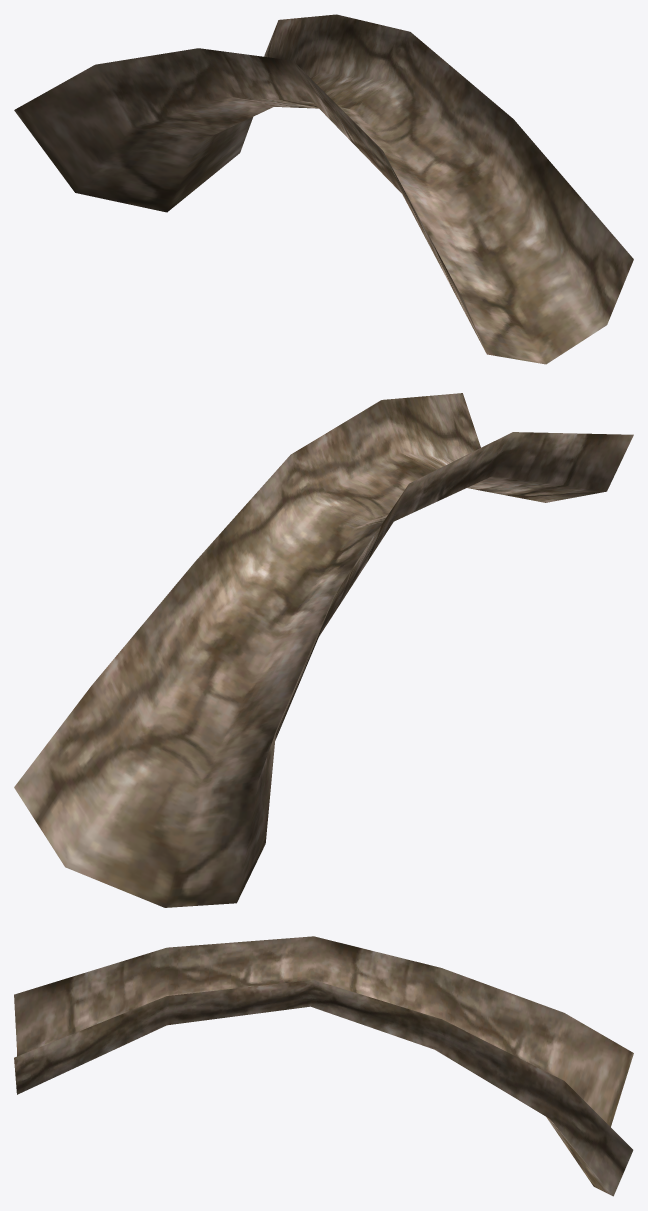
File: EKH_CAVERNS_PS_CA_PLAT54547438.fbx
3 views of the same model, one above another, from view 1: azimuth 30°, elevation 25°; view 2: azimuth 150°, elevation 25°; view 3: azimuth 270°, elevation 25° (orthographic). The views are drawn at different scales.
Parts seen in each view (by area): view 1: EKH_CAVERNS_PS_CA_PLAT54547438; view 2: EKH_CAVERNS_PS_CA_PLAT54547438; view 3: EKH_CAVERNS_PS_CA_PLAT54547438.
Part boxes in pixels (x1,y1,x2,y2): EKH_CAVERNS_PS_CA_PLAT54547438: (14,14,633,364); EKH_CAVERNS_PS_CA_PLAT54547438: (14,393,633,907); EKH_CAVERNS_PS_CA_PLAT54547438: (14,936,633,1196).
Bounding box in the file's own units: 15069 × 17308 × 42511.
Materials: 1 (1 with a texture image).
